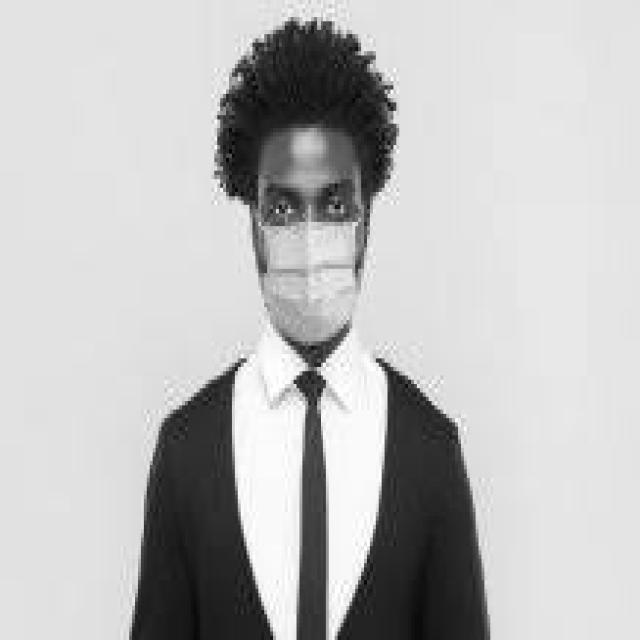with_mask: (253, 209, 364, 346)
